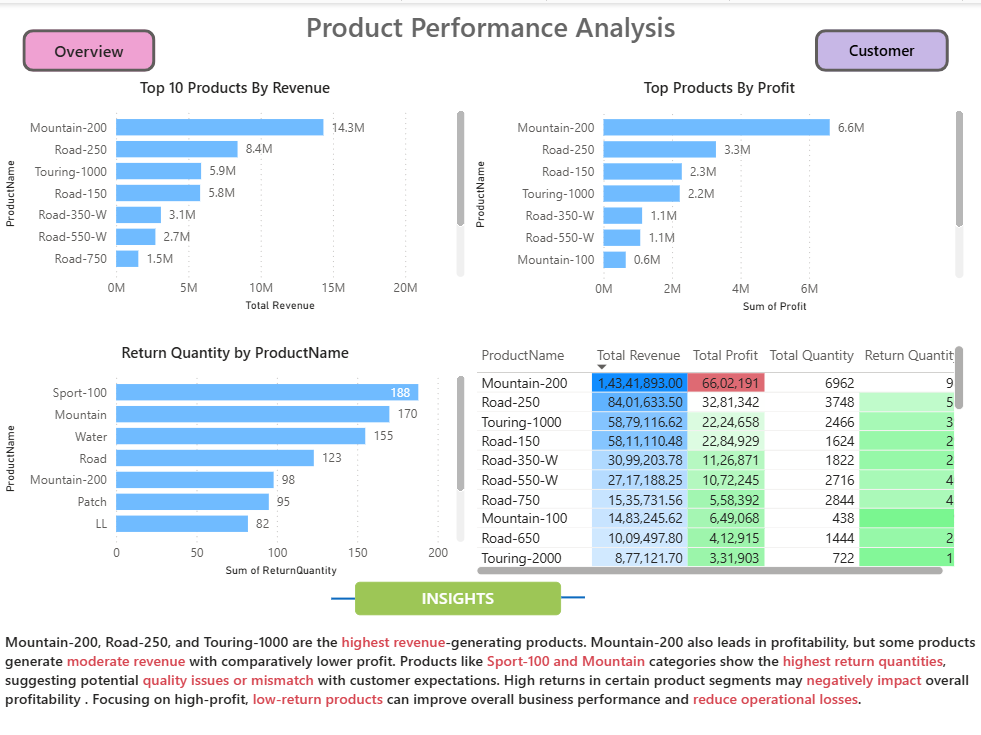

The dashboard page shown, as its layout file describes it:
{"tool":"powerbi","page":{"name":"Product  analysis","canvas":[960,720],"ordinal":1},"visuals":[{"type":"textbox","box":[280.1,0,399.9,51.4],"z":0},{"type":"barChart","title":"Top 10 Products By Revenue","fields":{"Y":["gold extfact_sales.Total Revenue"],"Category":["gold extdim_product.ProductName"]},"box":[0,72.1,459.8,234.8],"z":1000},{"type":"barChart","title":" Top Products By Profit","fields":{"Category":["gold extdim_product.ProductName"],"Y":["Sum(gold extfact_sales.Profit)"]},"box":[459.8,72.1,487.9,236],"z":2000},{"type":"clusteredBarChart","title":" Return Quantity by ProductName","fields":{"Category":["gold extdim_product.ProductName"],"Y":["Sum(gold extfact_returns.ReturnQuantity)"]},"box":[0,331.4,459.8,234.8],"z":3000},{"type":"tableEx","fields":{"Values":["gold extdim_product.ProductName","gold extfact_sales.Total Revenue","gold extfact_sales.Total Profit","gold extfact_sales.Total Quantity","Sum(gold extfact_returns.ReturnQuantity)"]},"box":[459.8,330.2,487.9,234.8],"z":4000},{"type":"textbox","box":[347.3,566.2,201.8,33],"z":5000},{"type":"shape","box":[324.1,507.5,23.2,150.4],"z":6000},{"type":"shape","box":[549.1,506.3,23.2,150.4],"z":7000},{"type":"textbox","box":[0,610.2,959.9,92.9],"z":8000},{"type":"actionButton","box":[797.3,25.7,130.8,41.6],"z":8001},{"type":"actionButton","title":"Overview","box":[22,25.7,130,41.6],"z":8002}]}

Visuals, with their boxes in screenshot pixels (x1, y1, x2, y2), scaled from the page's 960x720 canvas onto the 981x735 screenshot:
textbox: region(286, 0, 695, 52)
"Top 10 Products By Revenue" barChart: region(0, 74, 470, 313)
" Top Products By Profit" barChart: region(470, 74, 968, 315)
" Return Quantity by ProductName" clusteredBarChart: region(0, 338, 470, 578)
tableEx - gold extdim_product.ProductName x gold extfact_sales.Total Revenue: region(470, 337, 968, 577)
textbox: region(355, 578, 561, 612)
shape: region(331, 518, 355, 672)
shape: region(561, 517, 585, 670)
textbox: region(0, 623, 980, 718)
actionButton: region(815, 26, 948, 69)
"Overview" actionButton: region(22, 26, 155, 69)
